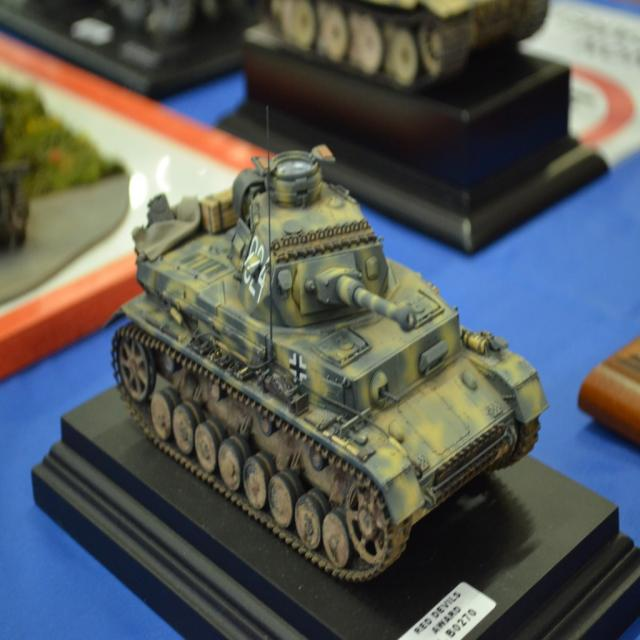tank: (102, 104, 550, 581), (258, 2, 550, 98)
